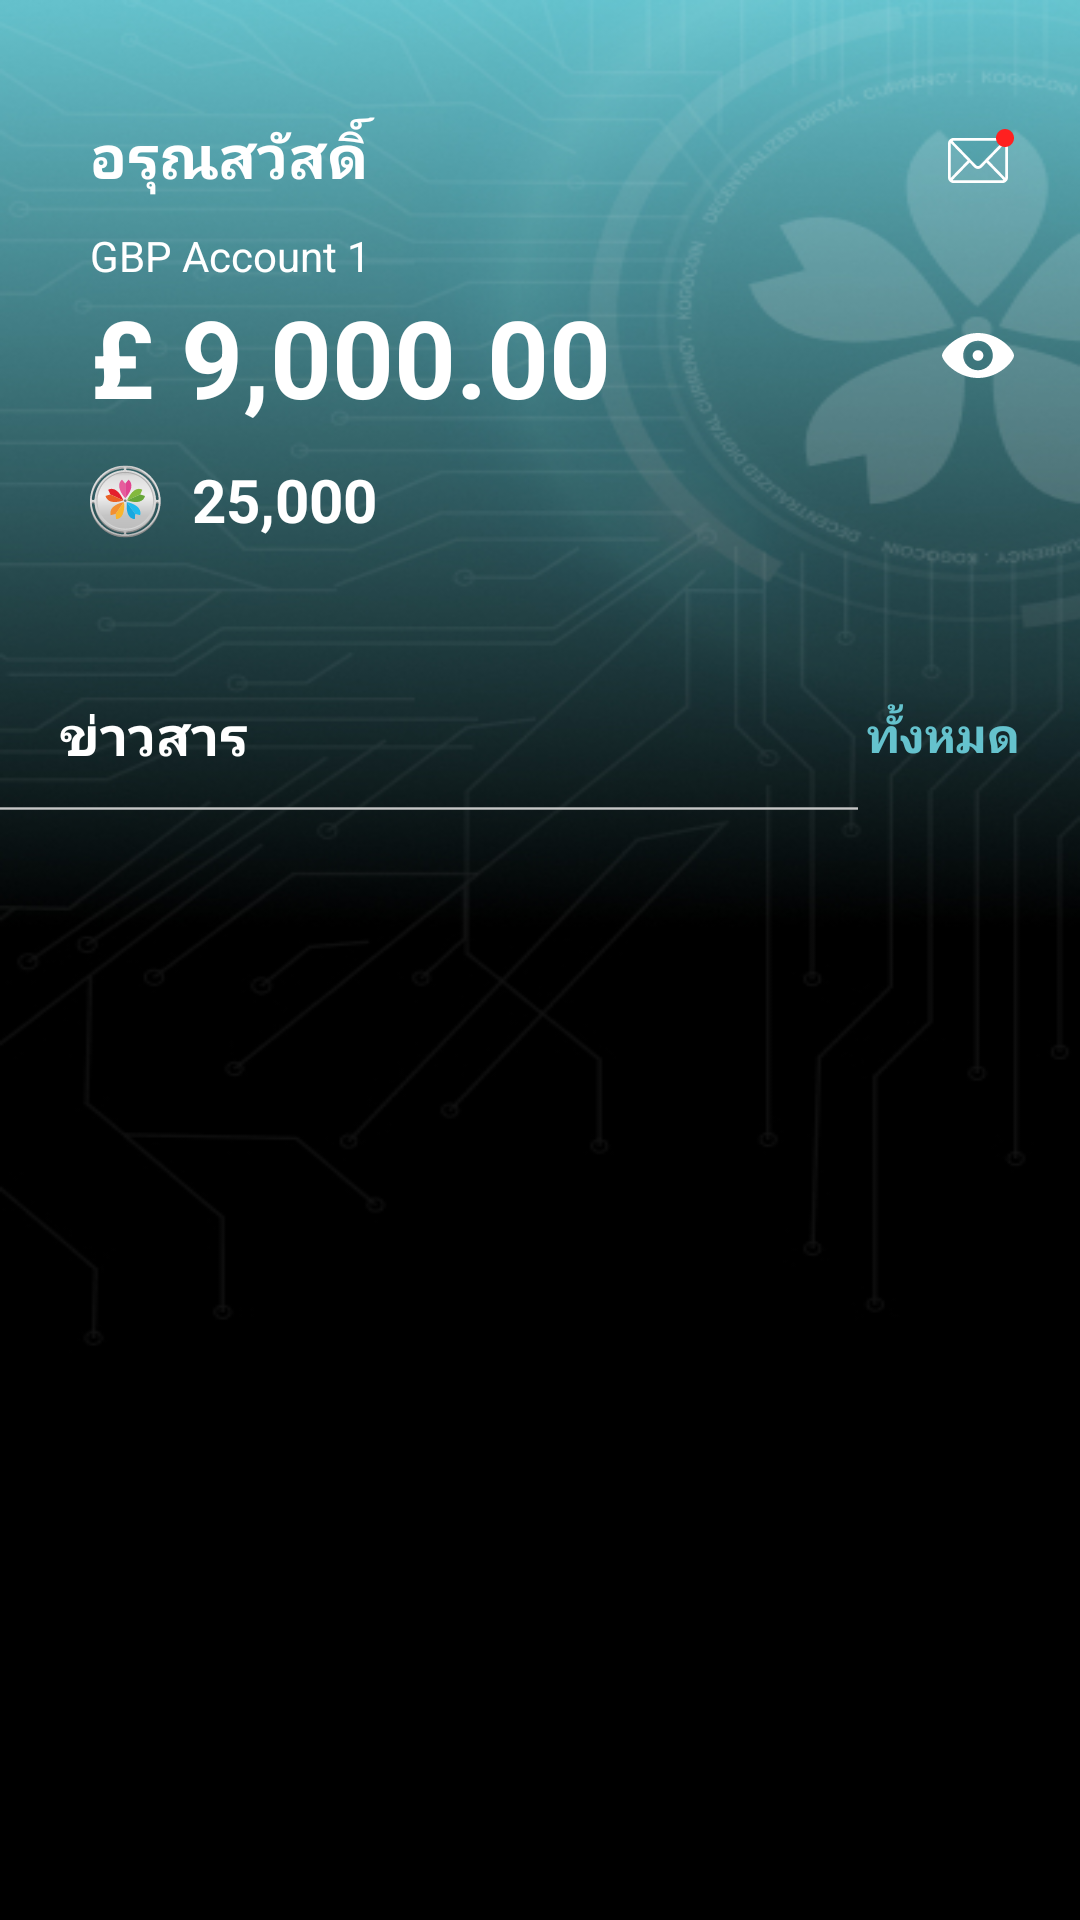

Screen size 1080px×1920px. Icon name, then its box in pixels as (x1, y1, x2, y2):
notification: (948, 129, 1014, 183)
show: (942, 333, 1014, 393)
